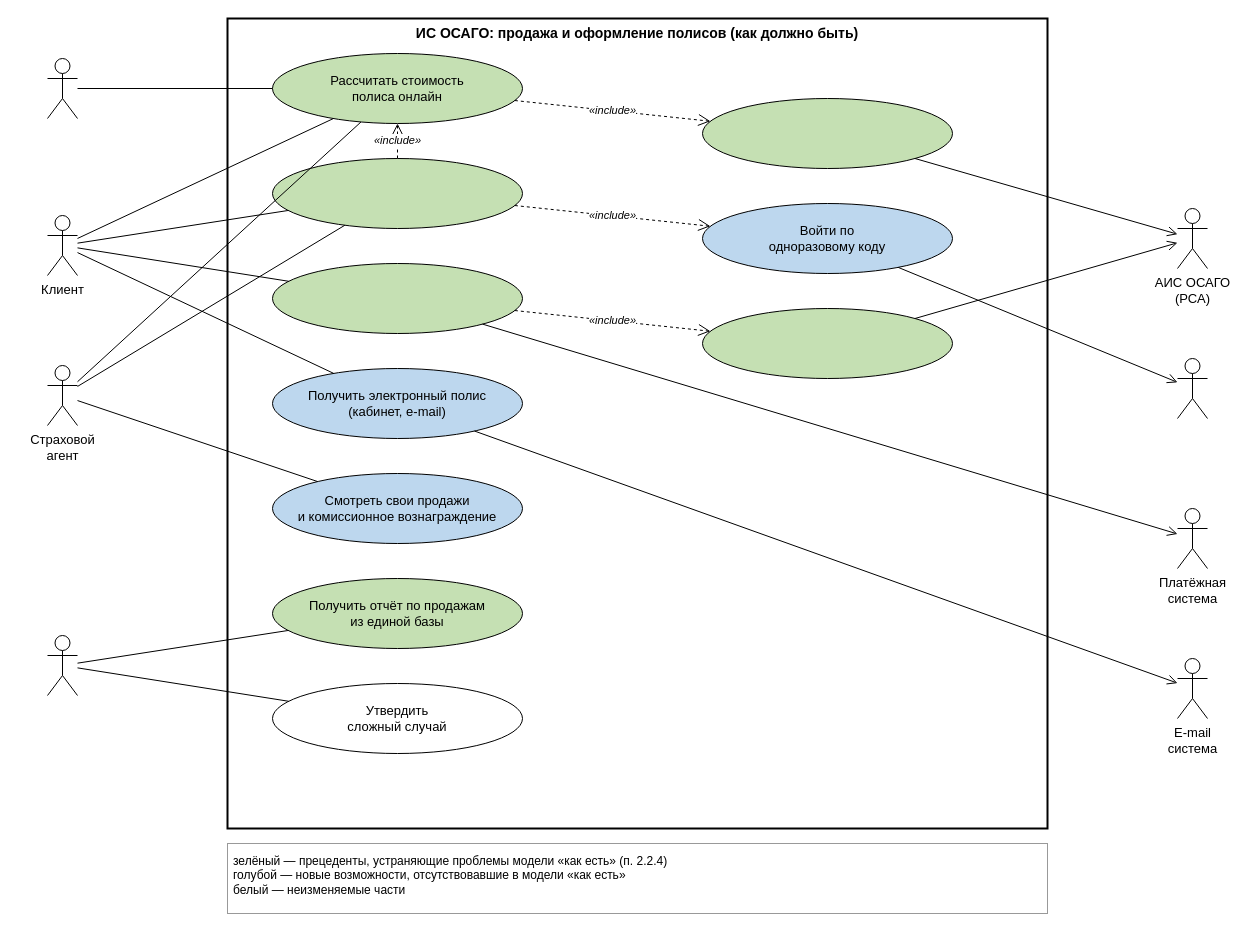
Image size: 1247x931. Some labels were removed from this diagram. Each missing label, with the centre of its shape:
"SMS-шлюз" goes at point 1192,388.
"Гость" goes at point 62,88.
"Зарегистрировать договор в АИС ОСАГО автоматически" goes at point 827,343.
"Менеджер отдела продаж" goes at point 62,665.
"Оплатить полис онлайн" goes at point 397,298.
"Оформить полис в системе" goes at point 397,193.
"Получить КБМ, проверить ТС и водителей автоматически" goes at point 827,133.
